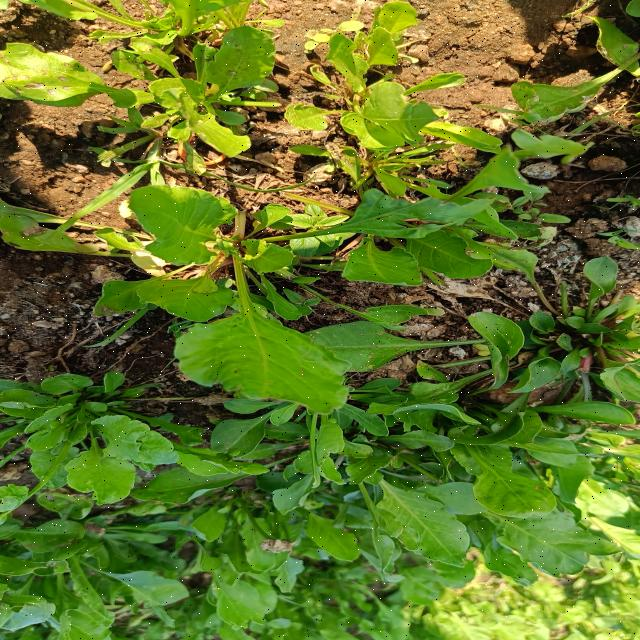half-leaf: (428, 142, 558, 217), (302, 293, 440, 337)
leaves: (150, 220, 325, 425), (72, 175, 286, 281), (266, 184, 509, 257), (345, 459, 483, 578), (298, 318, 521, 382), (1, 43, 173, 125), (485, 63, 640, 147), (495, 495, 627, 588), (178, 23, 296, 120), (420, 220, 564, 293), (464, 442, 565, 529), (378, 224, 509, 290), (327, 225, 432, 303), (331, 74, 420, 160), (463, 297, 534, 404), (117, 270, 248, 327), (50, 437, 141, 512), (93, 557, 198, 620), (75, 411, 176, 473), (187, 563, 274, 633), (47, 558, 114, 640), (202, 404, 293, 461), (166, 99, 248, 159), (255, 454, 338, 512), (559, 252, 635, 315), (384, 364, 501, 404), (531, 390, 640, 432), (576, 15, 640, 85), (388, 57, 478, 105), (13, 511, 115, 552), (346, 436, 410, 500), (330, 28, 410, 79), (15, 392, 96, 438), (381, 400, 484, 434), (171, 455, 281, 486), (296, 409, 360, 461), (234, 232, 303, 279), (20, 367, 107, 403), (184, 495, 250, 541), (323, 30, 377, 79), (519, 295, 571, 345), (369, 1, 434, 40), (550, 344, 594, 381)
